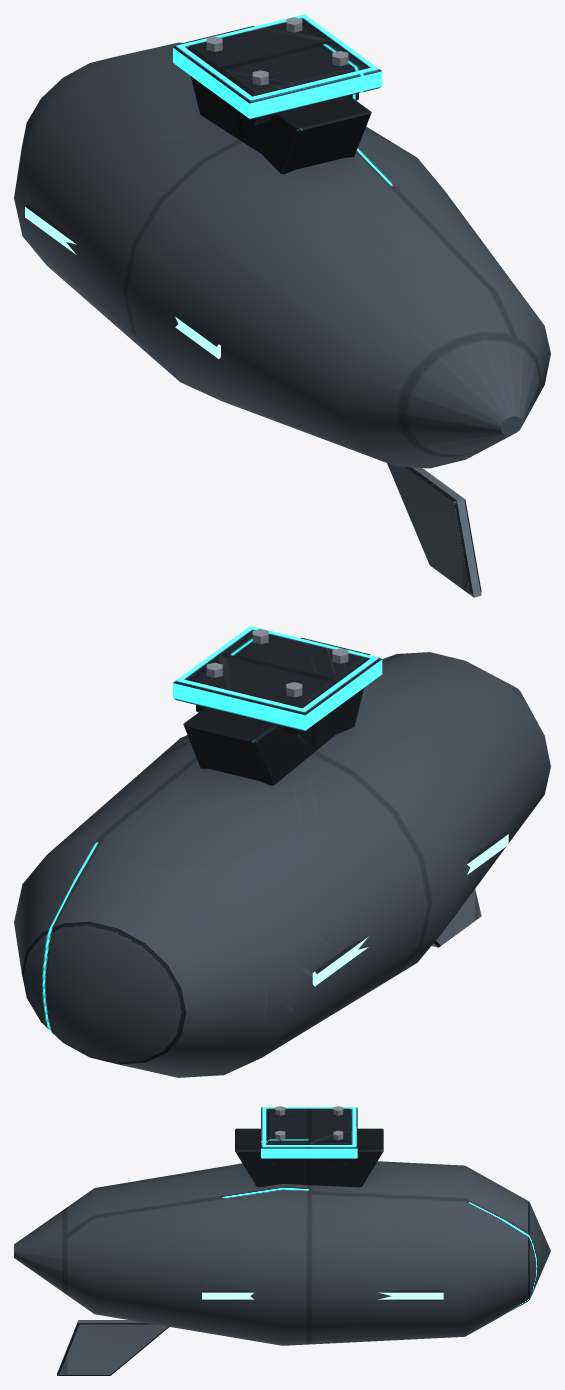
The model's file is tanque_combustible_t3.fbx.
The picture shows the model from 3 angles, top to bottom: view 1: azimuth 30°, elevation 25°; view 2: azimuth 150°, elevation 25°; view 3: azimuth 270°, elevation 25°; orthographic projection. The views are drawn at different scales.
Parts seen in each view (by area): view 1: tanque_combustible_t3, tanque_combustible_t3_neon; view 2: tanque_combustible_t3, tanque_combustible_t3_neon; view 3: tanque_combustible_t3, tanque_combustible_t3_neon.
Boxes of the visible parts, box(x1,y1,x2,y2) form: tanque_combustible_t3: box(14, 14, 550, 597); tanque_combustible_t3_neon: box(25, 207, 508, 359); tanque_combustible_t3: box(14, 626, 550, 1077); tanque_combustible_t3_neon: box(312, 834, 508, 986); tanque_combustible_t3: box(14, 1106, 550, 1375); tanque_combustible_t3_neon: box(202, 1292, 443, 1299).
Bounding box in the file's own units: 2.1 × 2.61 × 5.
